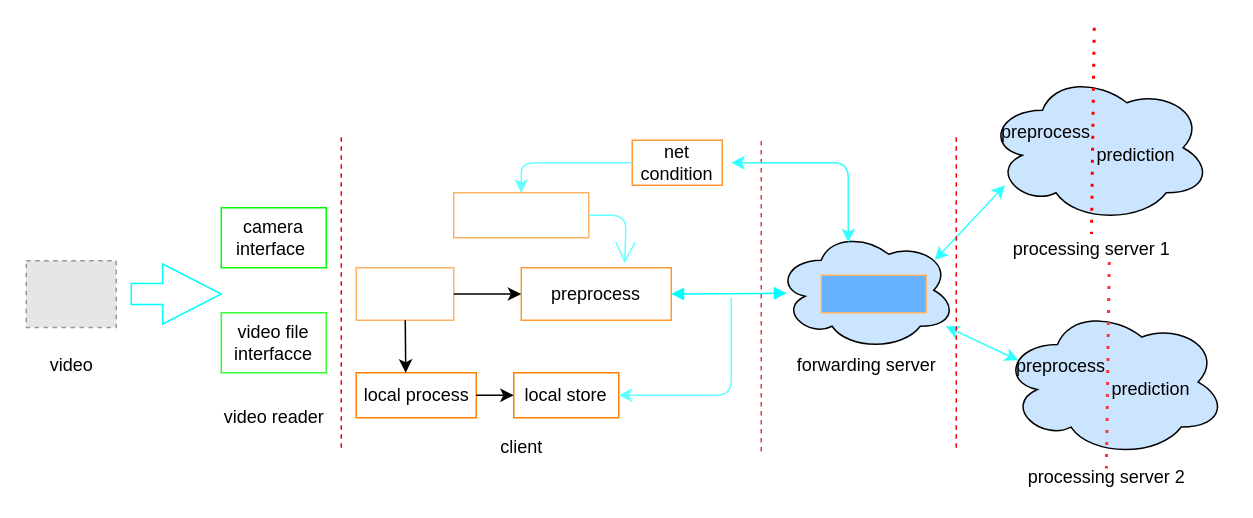
Some shapes in this 1253 by 518 pixel diagram are drawn without their labels. Grey dashed boxes stand in for pictures. Each missing label, with the box of its shape:
decision engine: (452, 191, 589, 238)
interface: (355, 266, 454, 320)
policy decision: (820, 274, 926, 313)
